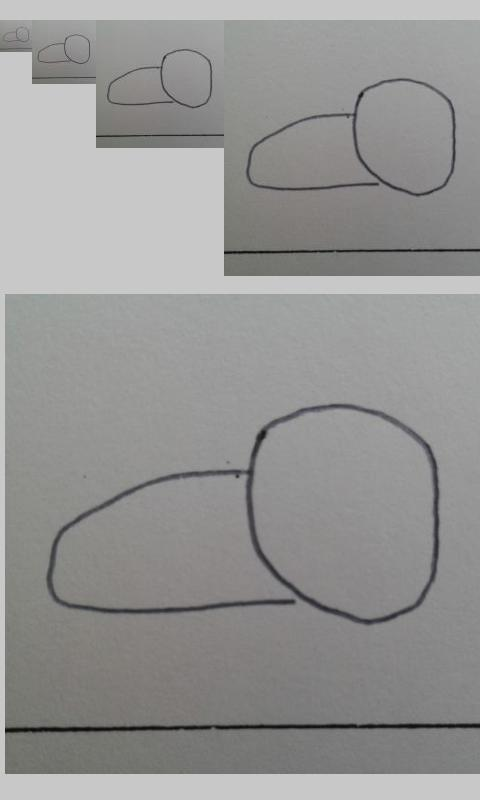switch: (45, 402, 442, 626), (246, 77, 457, 198), (107, 48, 213, 109), (37, 33, 91, 65), (2, 26, 31, 43)
